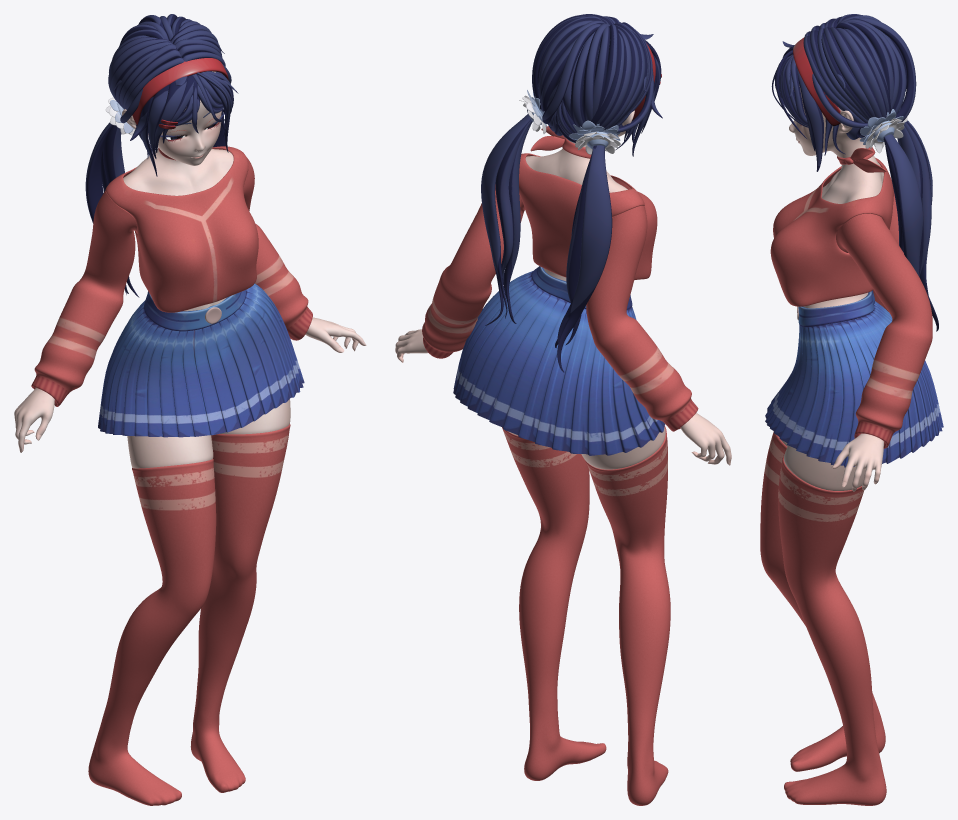
File: mita.glb
3 renders of one model, left to right at view 1: azimuth 30°, elevation 25°; view 2: azimuth 150°, elevation 25°; view 3: azimuth 270°, elevation 25°, orthographic.
Visible parts, largest first — view 1: MitaFreeSampleV1_0; view 2: MitaFreeSampleV1_0; view 3: MitaFreeSampleV1_0.
Part boxes in pixels (x1=…): MitaFreeSampleV1_0: x1=14, y1=14, x2=366, y2=805; MitaFreeSampleV1_0: x1=395, y1=14, x2=731, y2=805; MitaFreeSampleV1_0: x1=760, y1=14, x2=943, y2=805.
Size of the model in its own units: 31.91 by 68.43 by 14.95.
5 materials, 5 textured.
